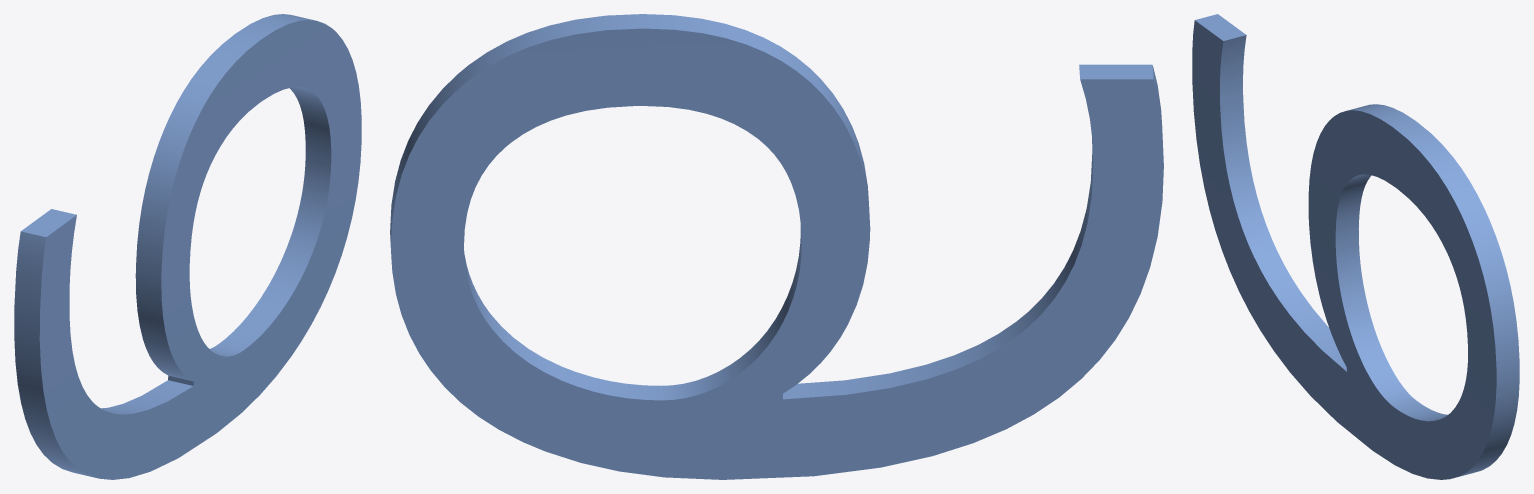
Rendered from New_Number_9.gltf.
The picture shows the model from 3 angles, left to right: view 1: azimuth 30°, elevation 25°; view 2: azimuth 150°, elevation 25°; view 3: azimuth 270°, elevation 25°; orthographic projection. The views are drawn at different scales.
Visible parts, largest first — view 1: Part 18; view 2: Part 18; view 3: Part 18.
Boxes of the visible parts, <box> form: Part 18: <box>14,14,361,479</box>; Part 18: <box>390,14,1163,479</box>; Part 18: <box>1192,14,1519,479</box>.
Size of the model in its own units: 0.00503 by 0.00359 by 0.00306.
